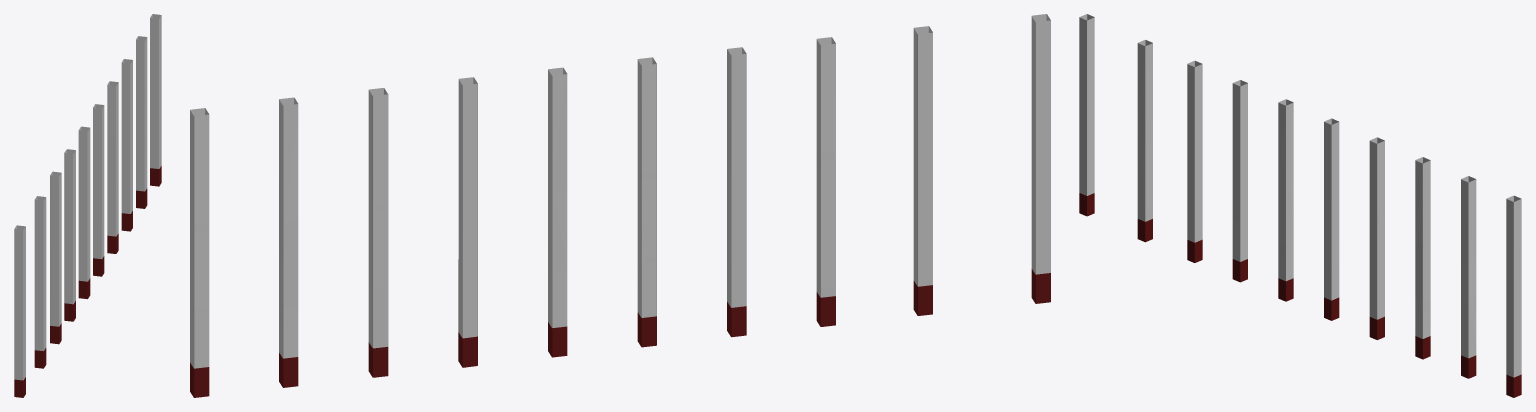
The model's file is SM_H_Building_Tide_Jail_D_01g_ATLAS.fbx.
3 renders of one model, left to right at view 1: azimuth 30°, elevation 25°; view 2: azimuth 150°, elevation 25°; view 3: azimuth 270°, elevation 25°, orthographic. The views are drawn at different scales.
Visible parts, largest first — view 1: SM_H_Building_Tide_Jail_D_01g_ATLAS; view 2: SM_H_Building_Tide_Jail_D_01g_ATLAS; view 3: SM_H_Building_Tide_Jail_D_01g_ATLAS.
Boxes of the visible parts, x1,y1,x2,y2 form: SM_H_Building_Tide_Jail_D_01g_ATLAS: (14, 14, 161, 397); SM_H_Building_Tide_Jail_D_01g_ATLAS: (190, 14, 1050, 397); SM_H_Building_Tide_Jail_D_01g_ATLAS: (1079, 14, 1521, 397).
Bounding box in the file's own units: 3752 × 3729 × 1829.
